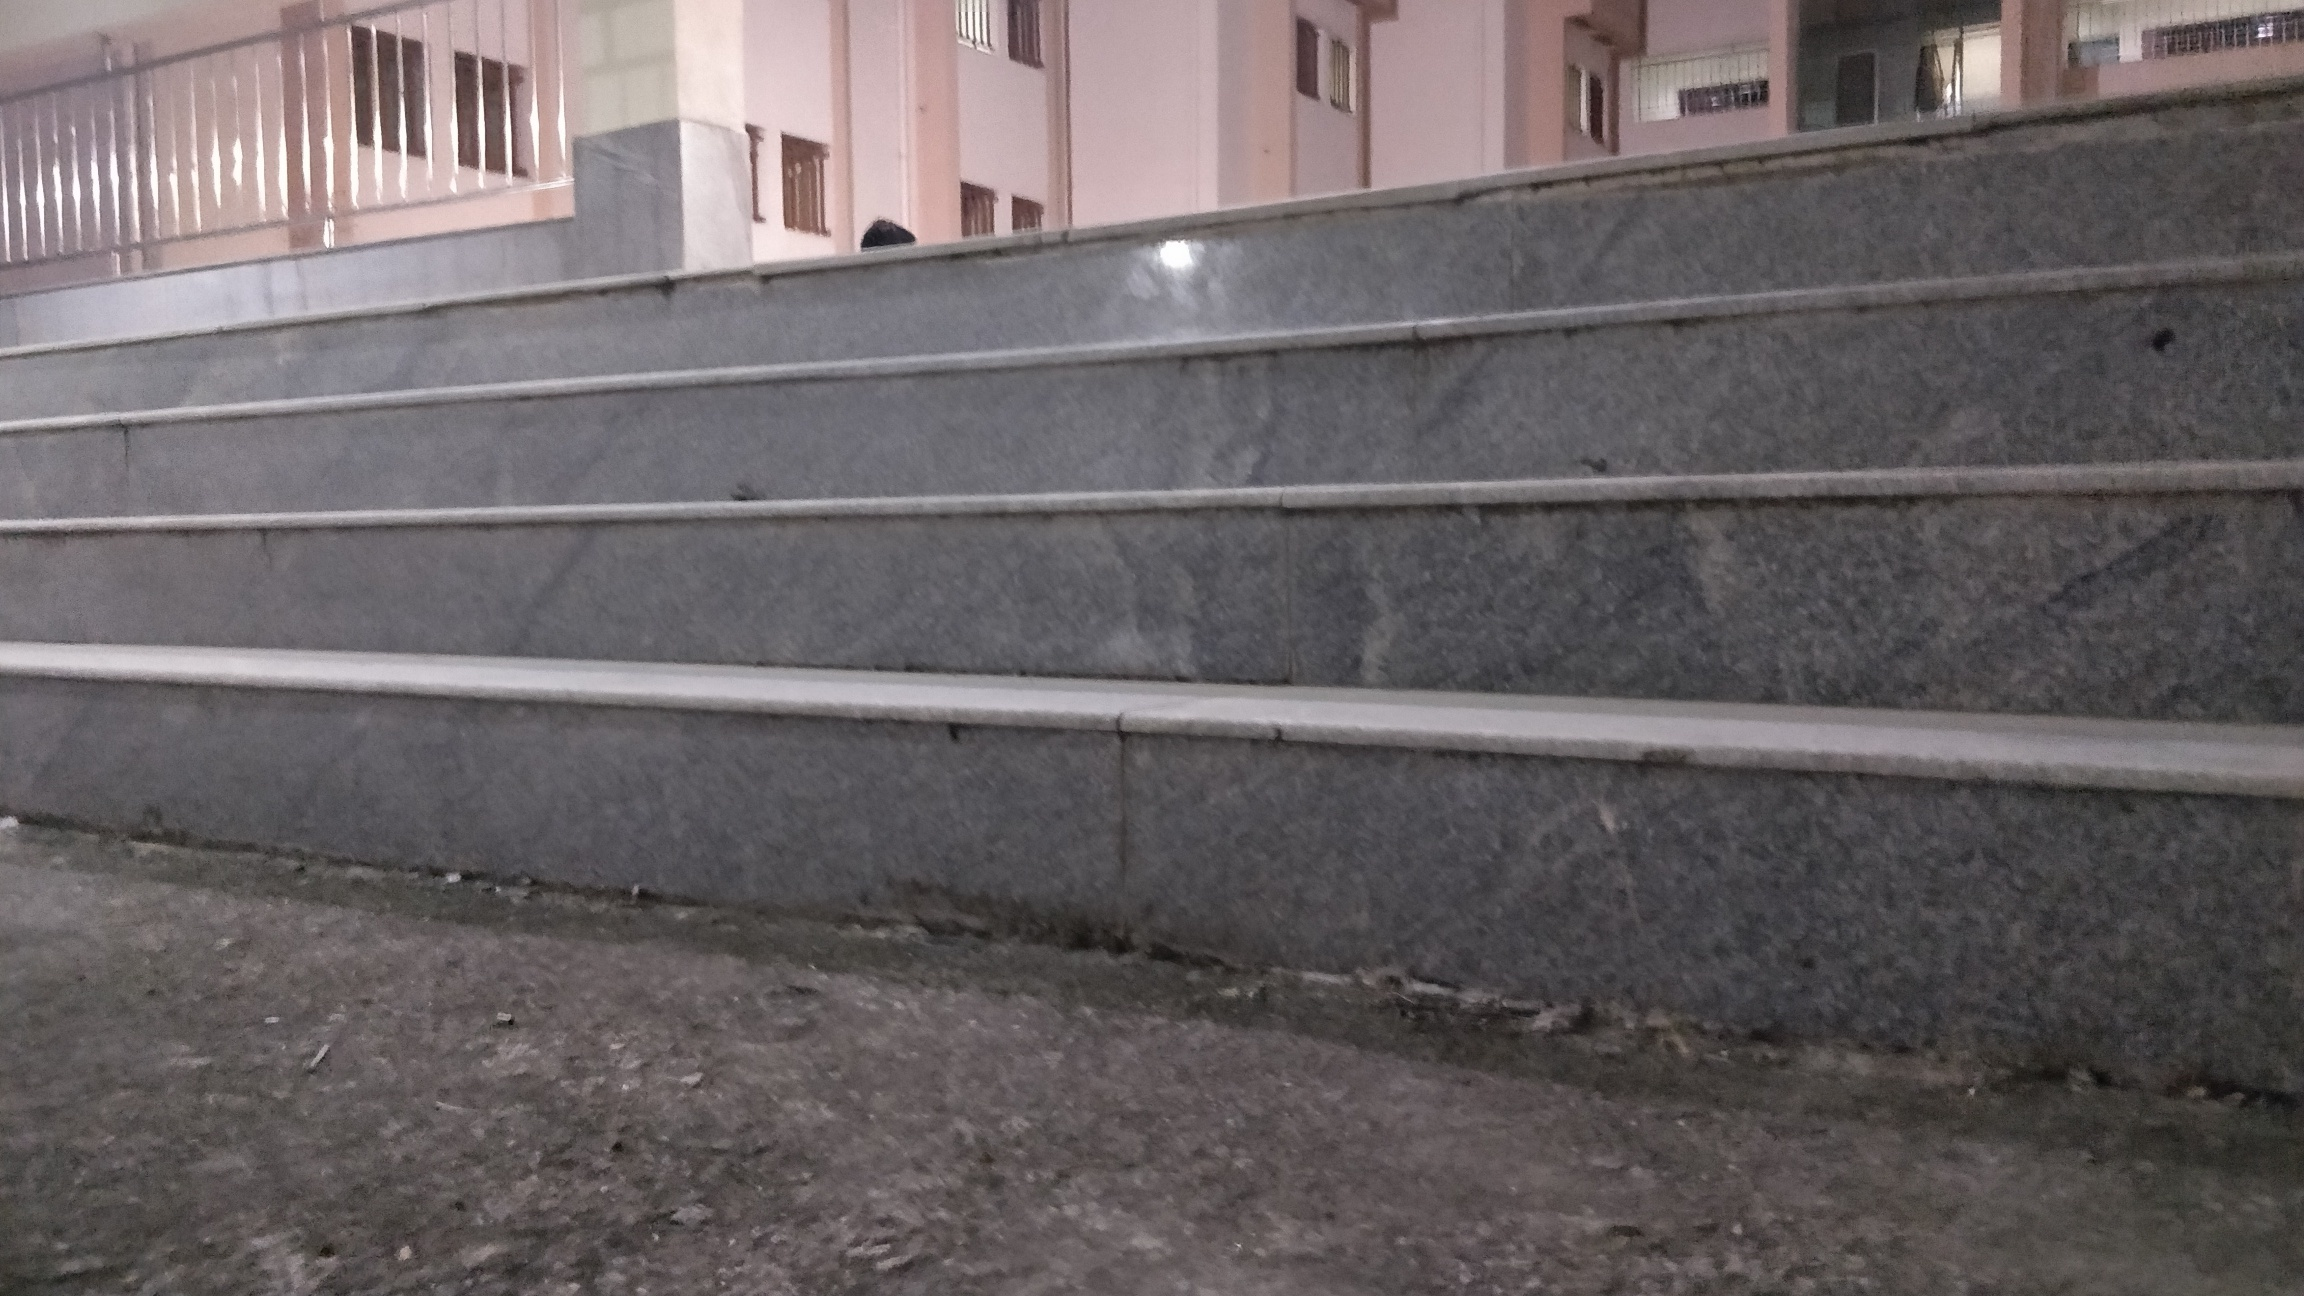stairs_up: (2, 153, 2261, 880)
